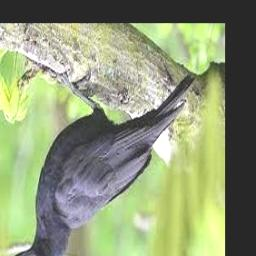Crow: (13, 73, 195, 256)
